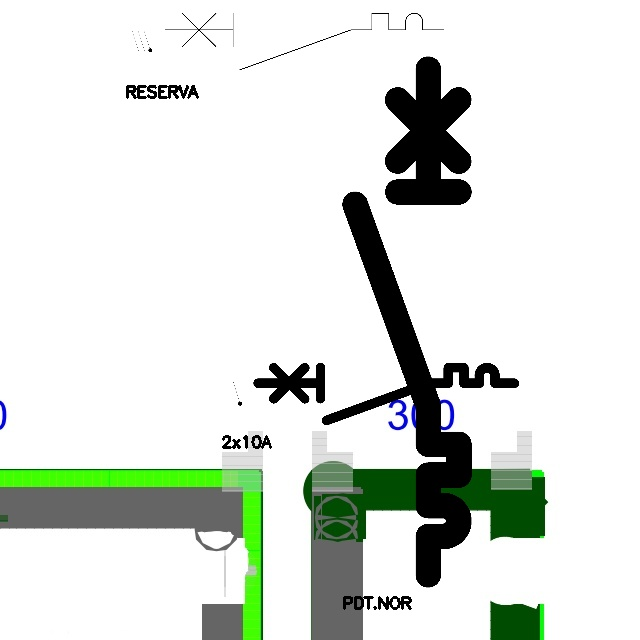interruptor_termomagnetico: (342, 56, 472, 588), (158, 6, 451, 77), (251, 361, 520, 427)
